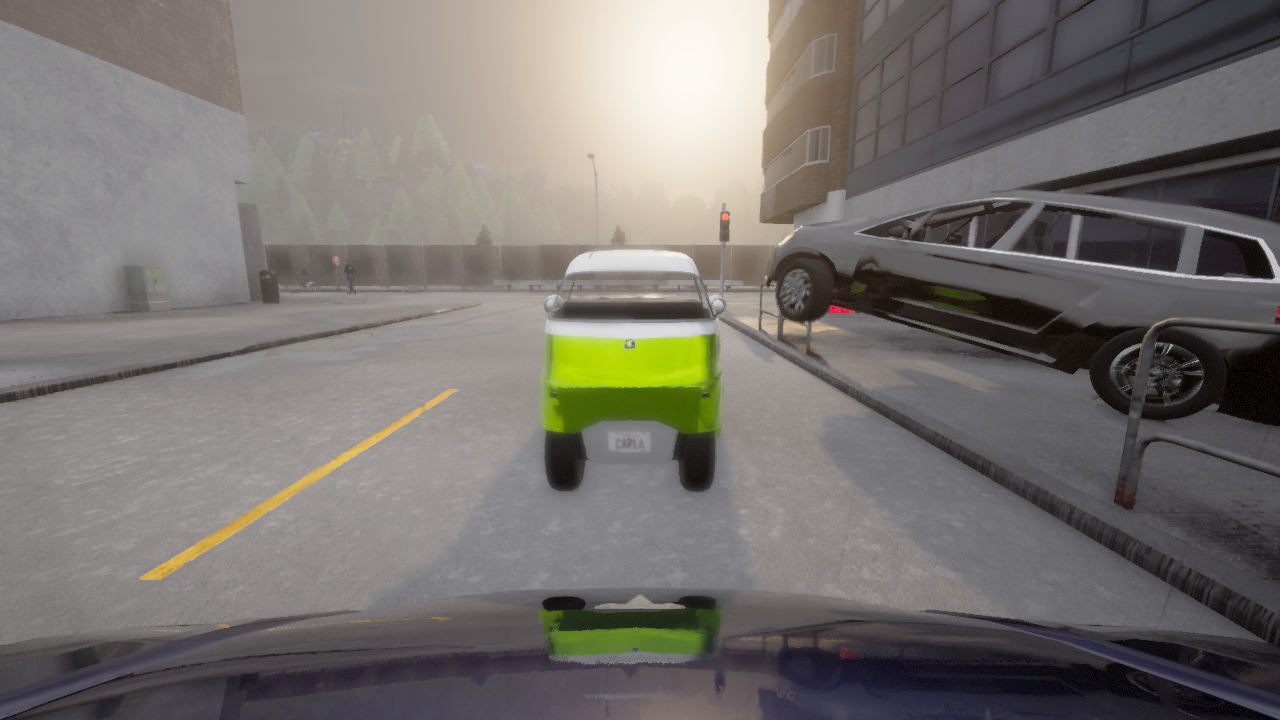cyclist: (0, 588, 1279, 719), (764, 190, 1279, 425), (540, 249, 725, 491), (288, 274, 317, 292)
pedestrian: (343, 258, 357, 295)
